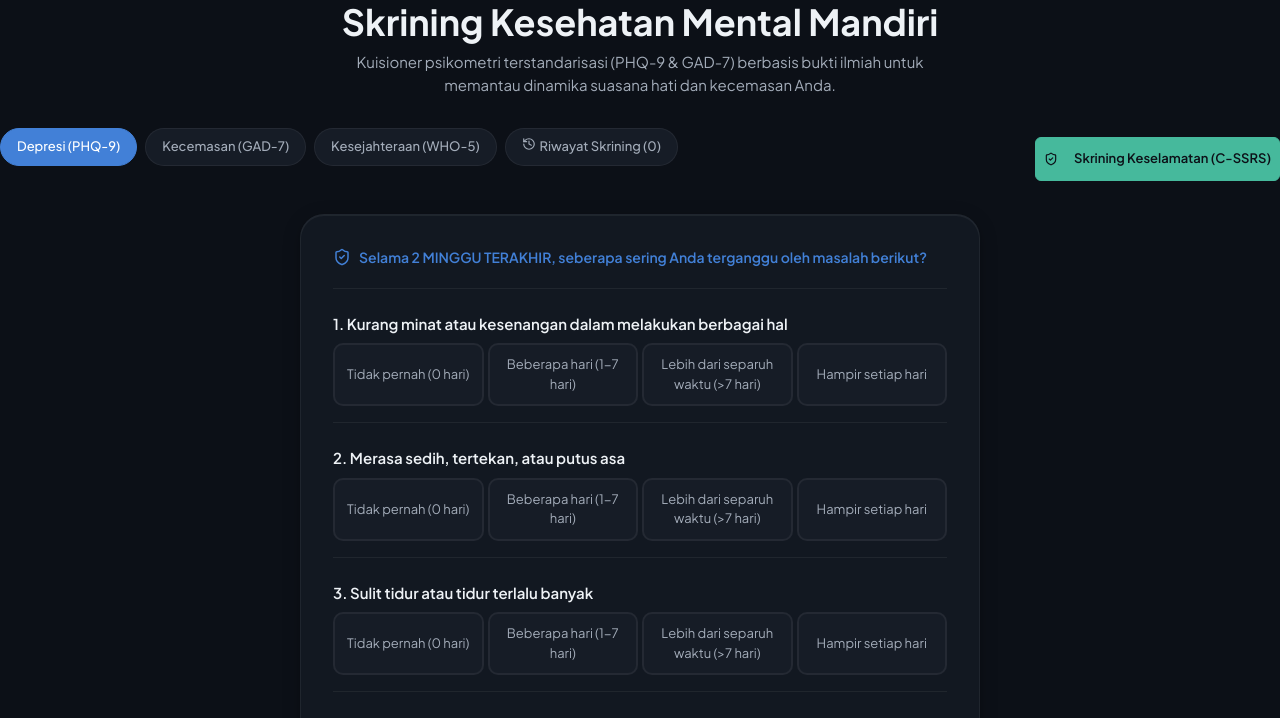
Test: Assessment Page & C-SSRS Escalation › opens C-SSRS modal on demand when clicking the safety screener button
Step 1. Click the button "Skrining Keselamatan (C-SSRS)" → (1158, 159), box [1035,137,1279,181]
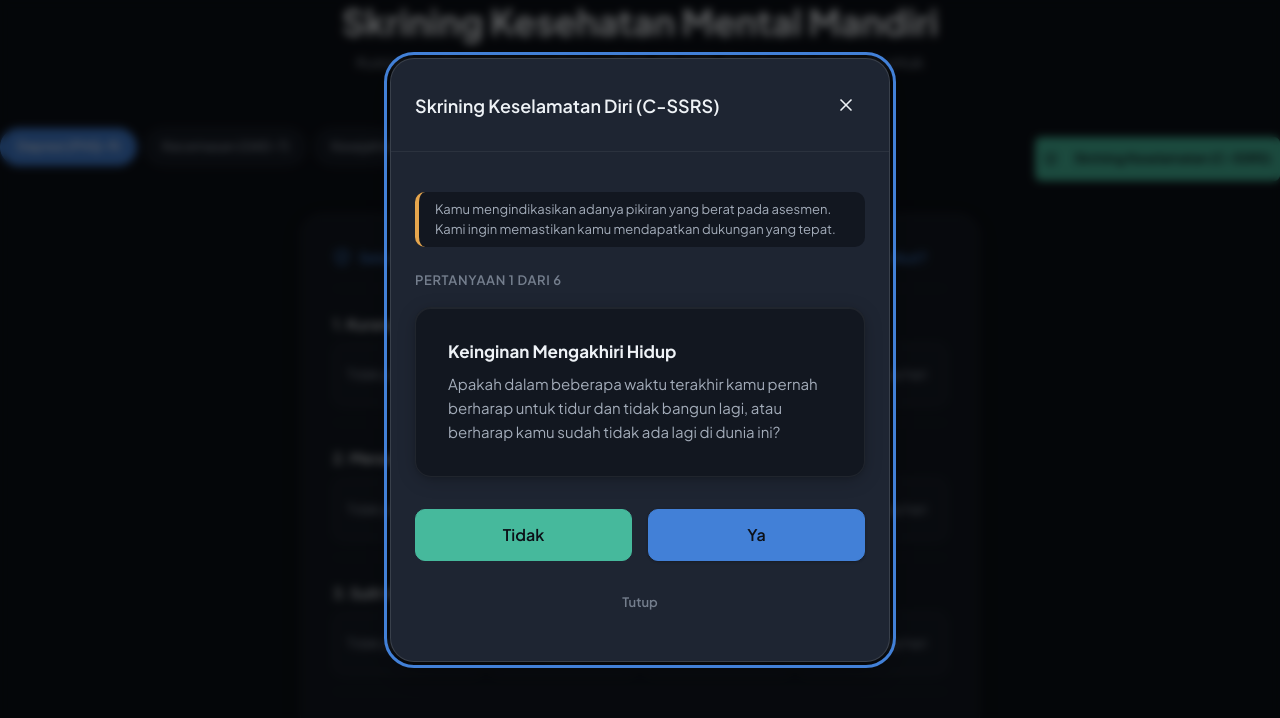
Now the heading "Skrining Keselamatan Diri (C-SSRS)" is shown, box [415,94,720,116]
Now the heading "Keinginan Mengakhiri Hidup" is shown, box [448,340,676,362]
